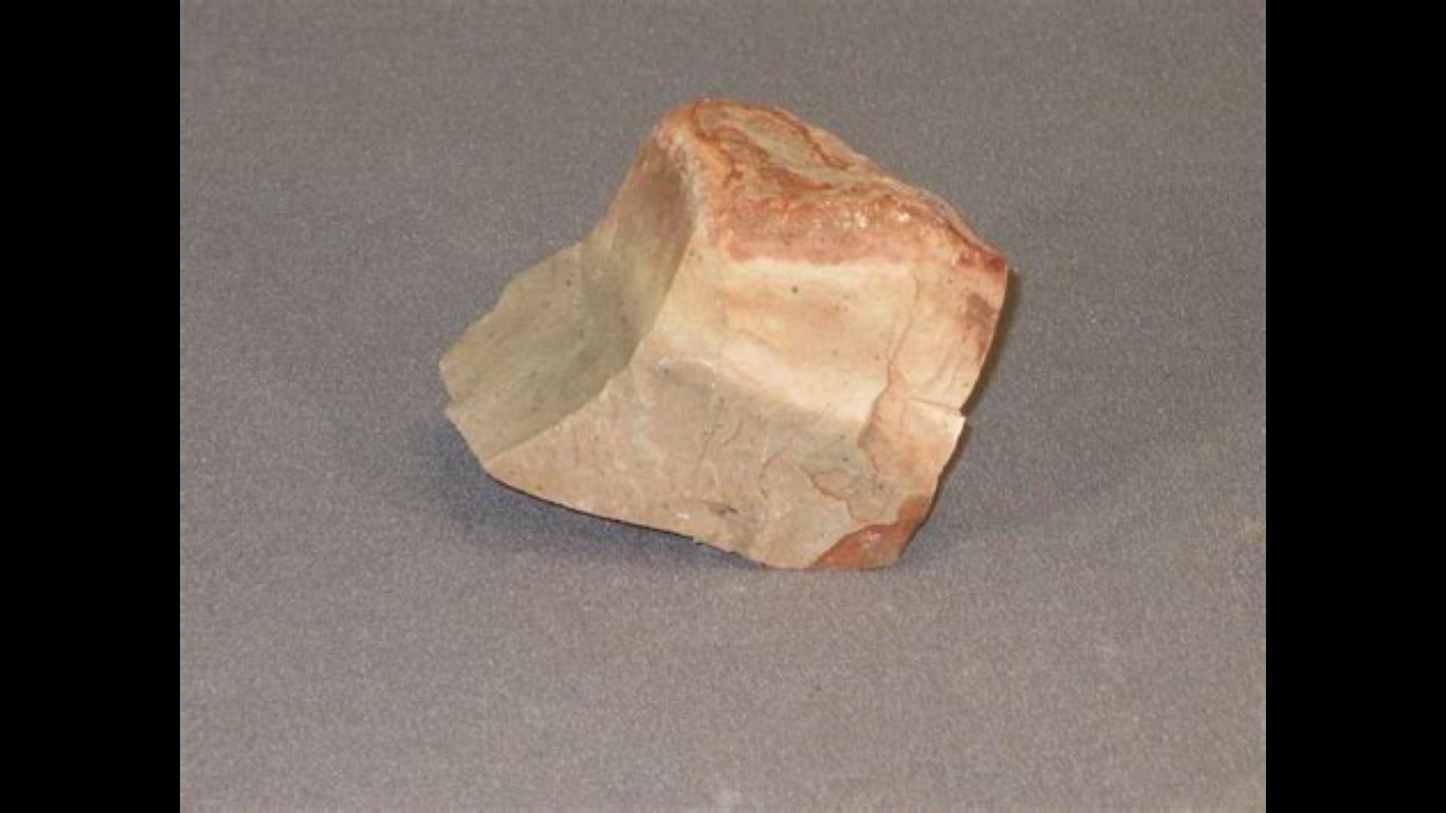rock: (448, 101, 1005, 563)
